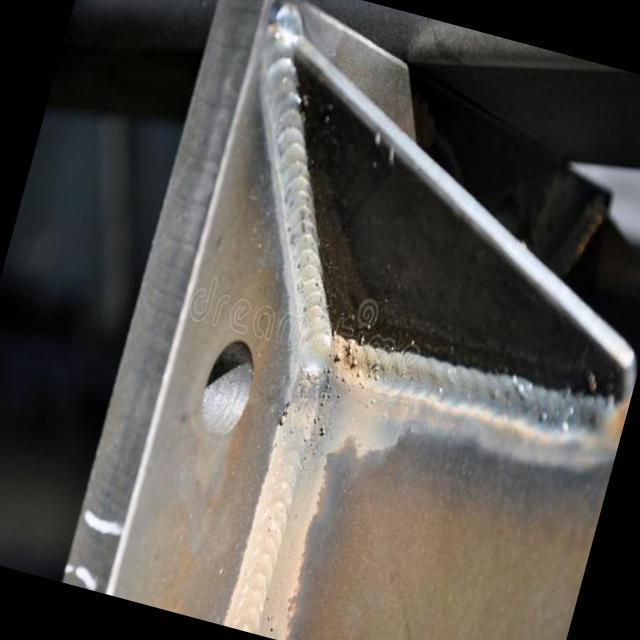defect: (315, 341, 389, 411), (275, 394, 294, 435), (312, 411, 330, 441)
